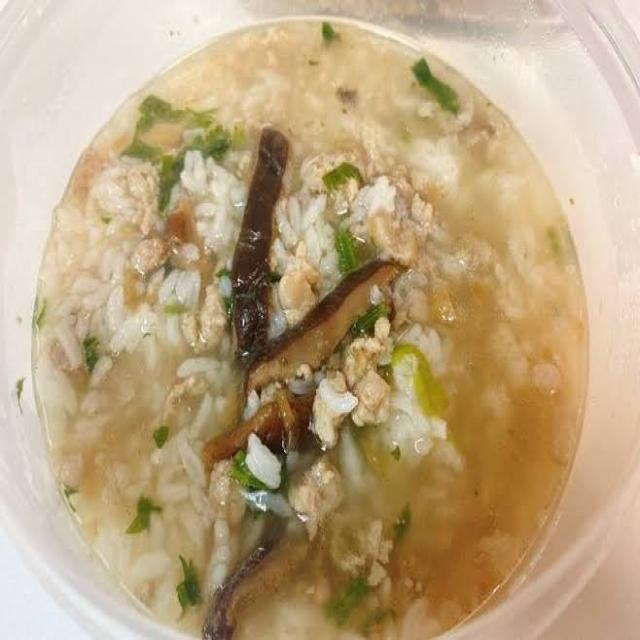carb: (80, 200, 213, 571)
meat: (334, 334, 398, 454)
rice porridge: (14, 35, 564, 622)
vegetable: (132, 88, 224, 194)
